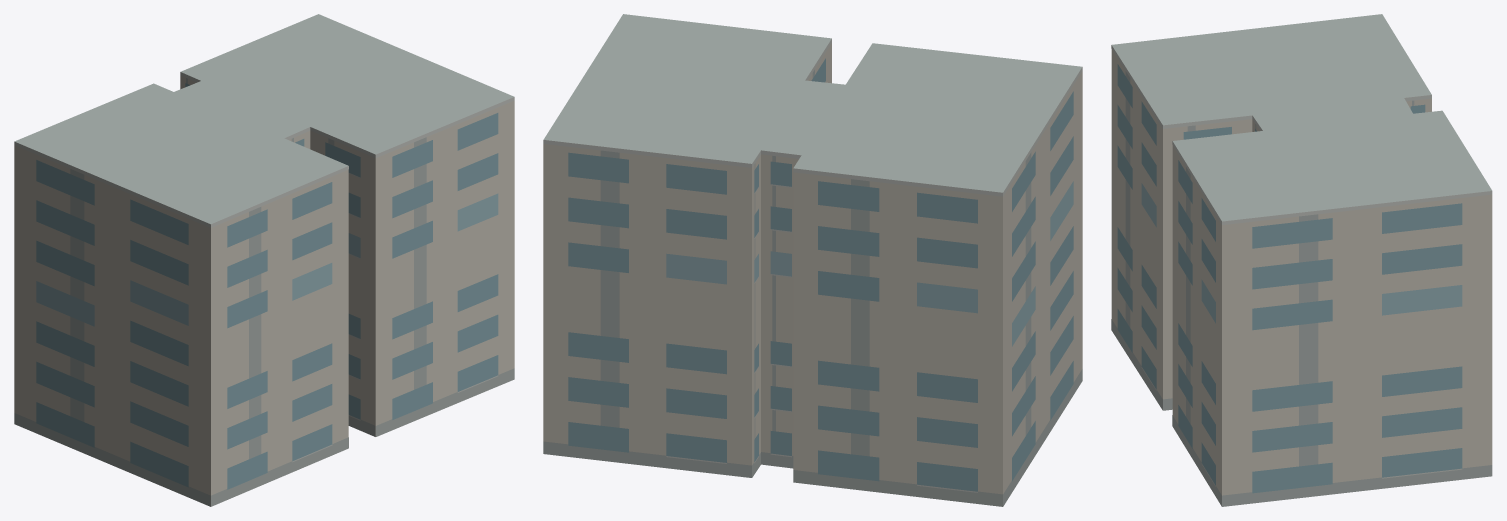
File: survey-upis-32712045.glb
3 renders of one model, left to right at view 1: azimuth 30°, elevation 25°; view 2: azimuth 150°, elevation 25°; view 3: azimuth 270°, elevation 25°, orthographic. The views are drawn at different scales.
Parts seen in each view (by area): view 1: survey-upis-32712045.tmp; view 2: survey-upis-32712045.tmp; view 3: survey-upis-32712045.tmp.
Part boxes in pixels (x1,y1,x2,y2): survey-upis-32712045.tmp: [14, 14, 514, 506]; survey-upis-32712045.tmp: [543, 14, 1082, 506]; survey-upis-32712045.tmp: [1111, 14, 1492, 506].
Size of the model in its own units: 29.48 by 18.9 by 22.88.
